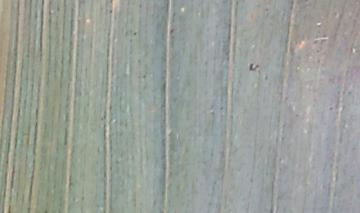tarspot: (248, 63, 259, 71), (107, 7, 114, 16), (132, 31, 139, 37)
